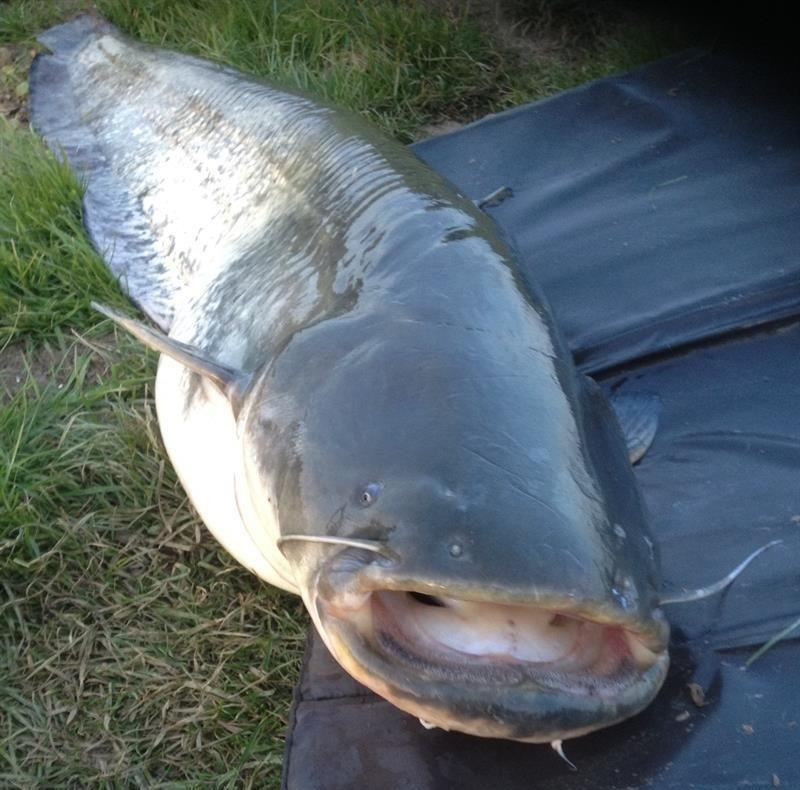Catfish: (31, 14, 666, 754)
